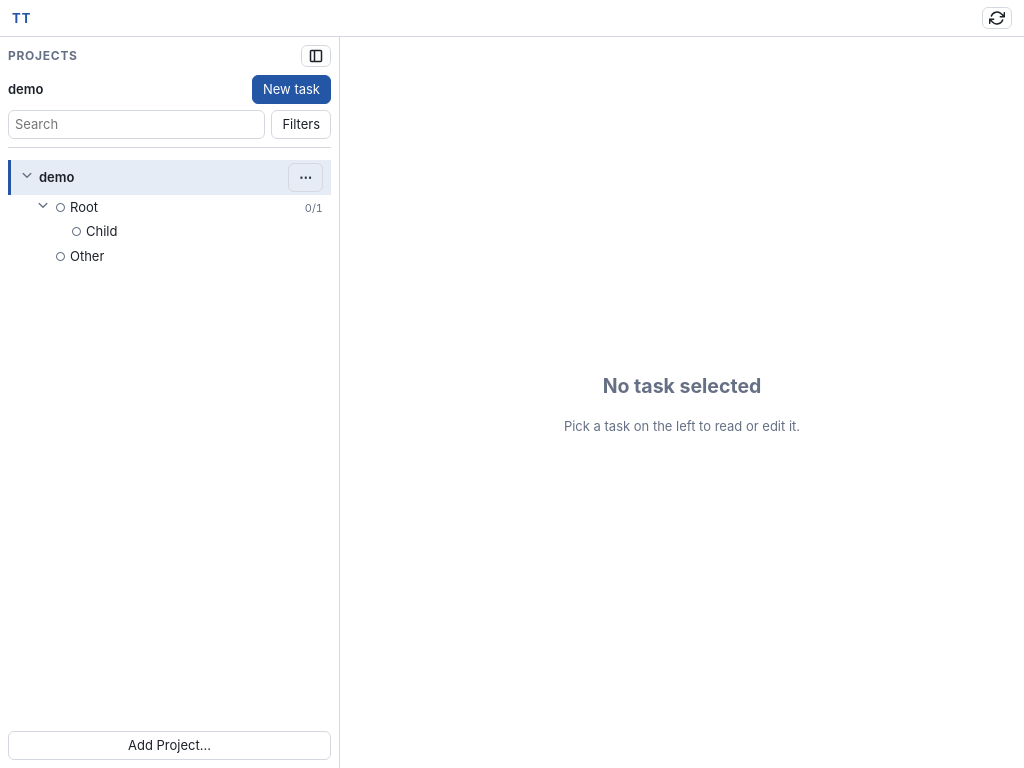
Test: App › collapses the filter form but keeps an active summary and Clear visible
Expected: the text "Other" is shown, [70,247,104,266]
Click the button "Filters" at [301, 124], box [271,110,331,139]
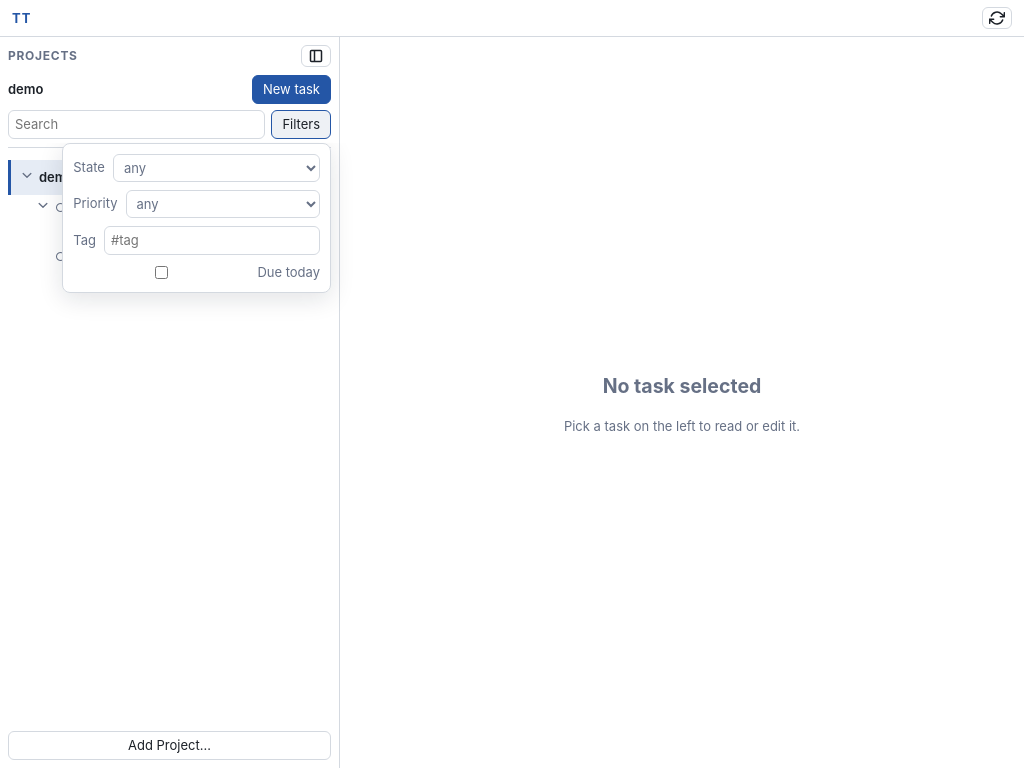
Select "open" in the dropdown named "Filter state" at [216, 168], box [113,154,320,182]
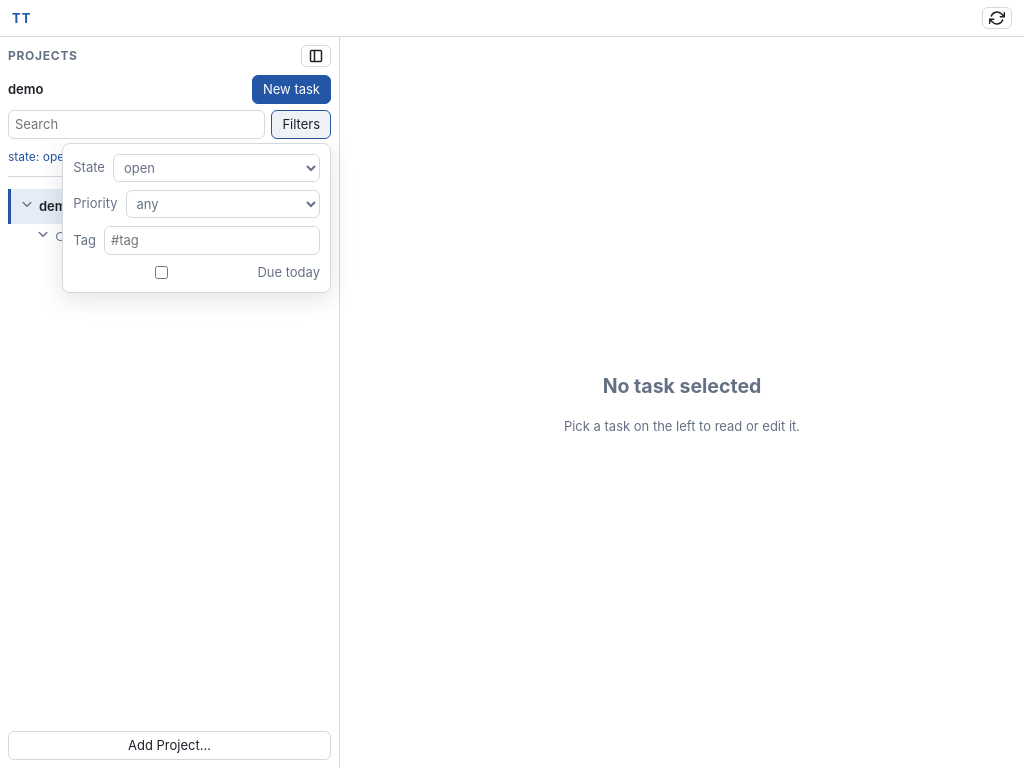
Click the button "Filters" at [301, 124], box [271,110,331,139]
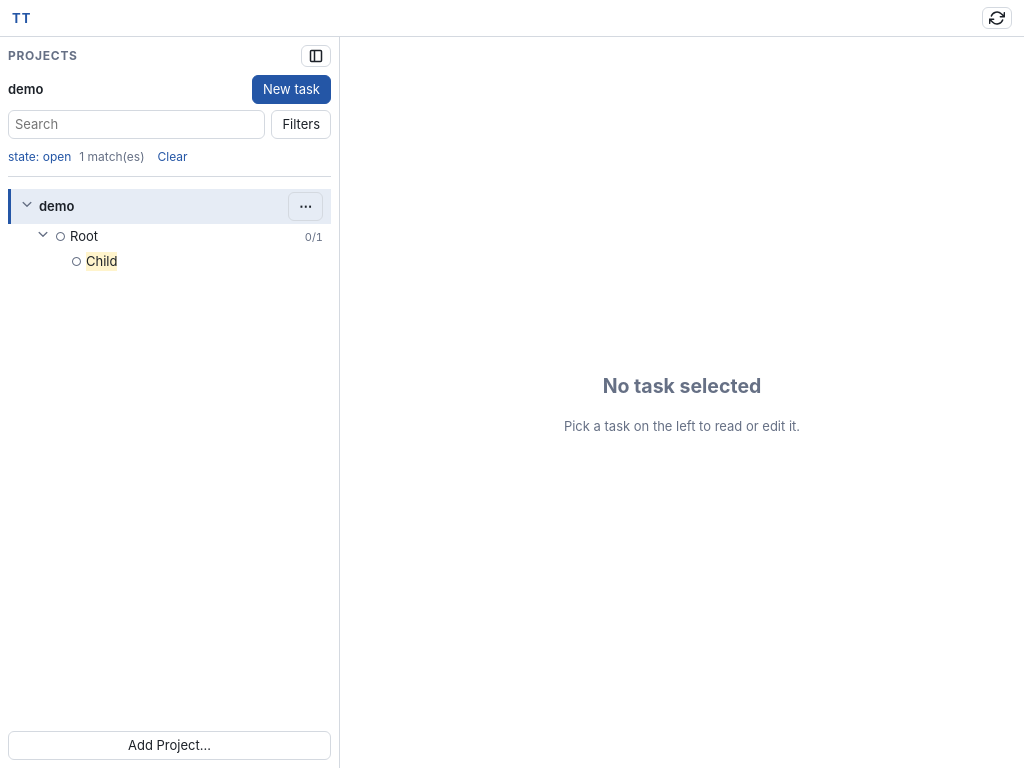
Result: the text with test id "filter-summary" shows "open" at [8,149,71,164]
Result: the dropdown labelled "Filter state" is gone
Click the button "Clear" at [173, 156], box [153,145,193,168]
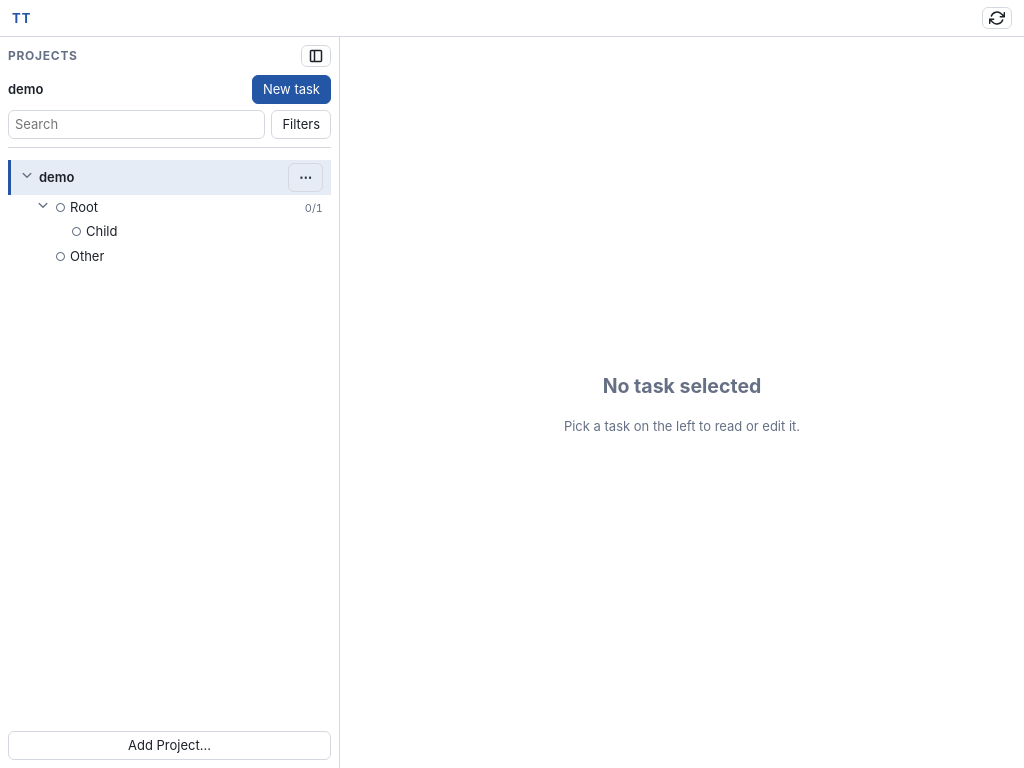
Result: the text with test id "filter-summary" is gone
